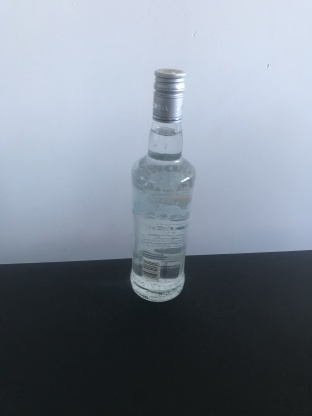nakretka: (151, 66, 187, 125)
